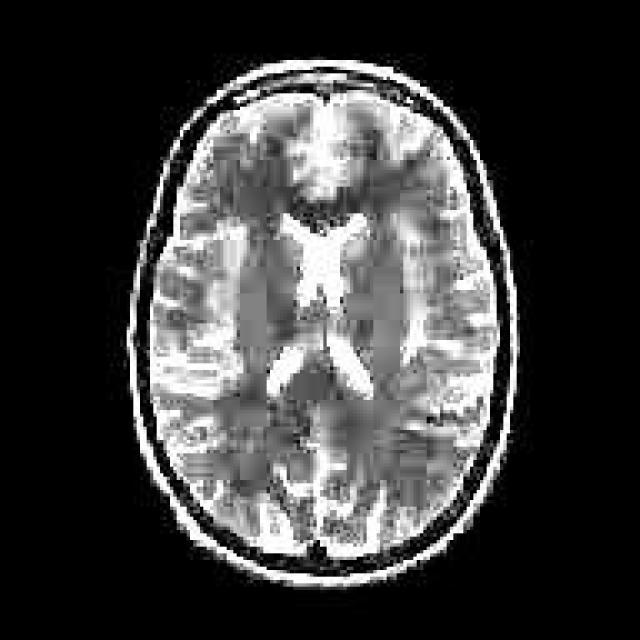notumor: (130, 60, 513, 583)
